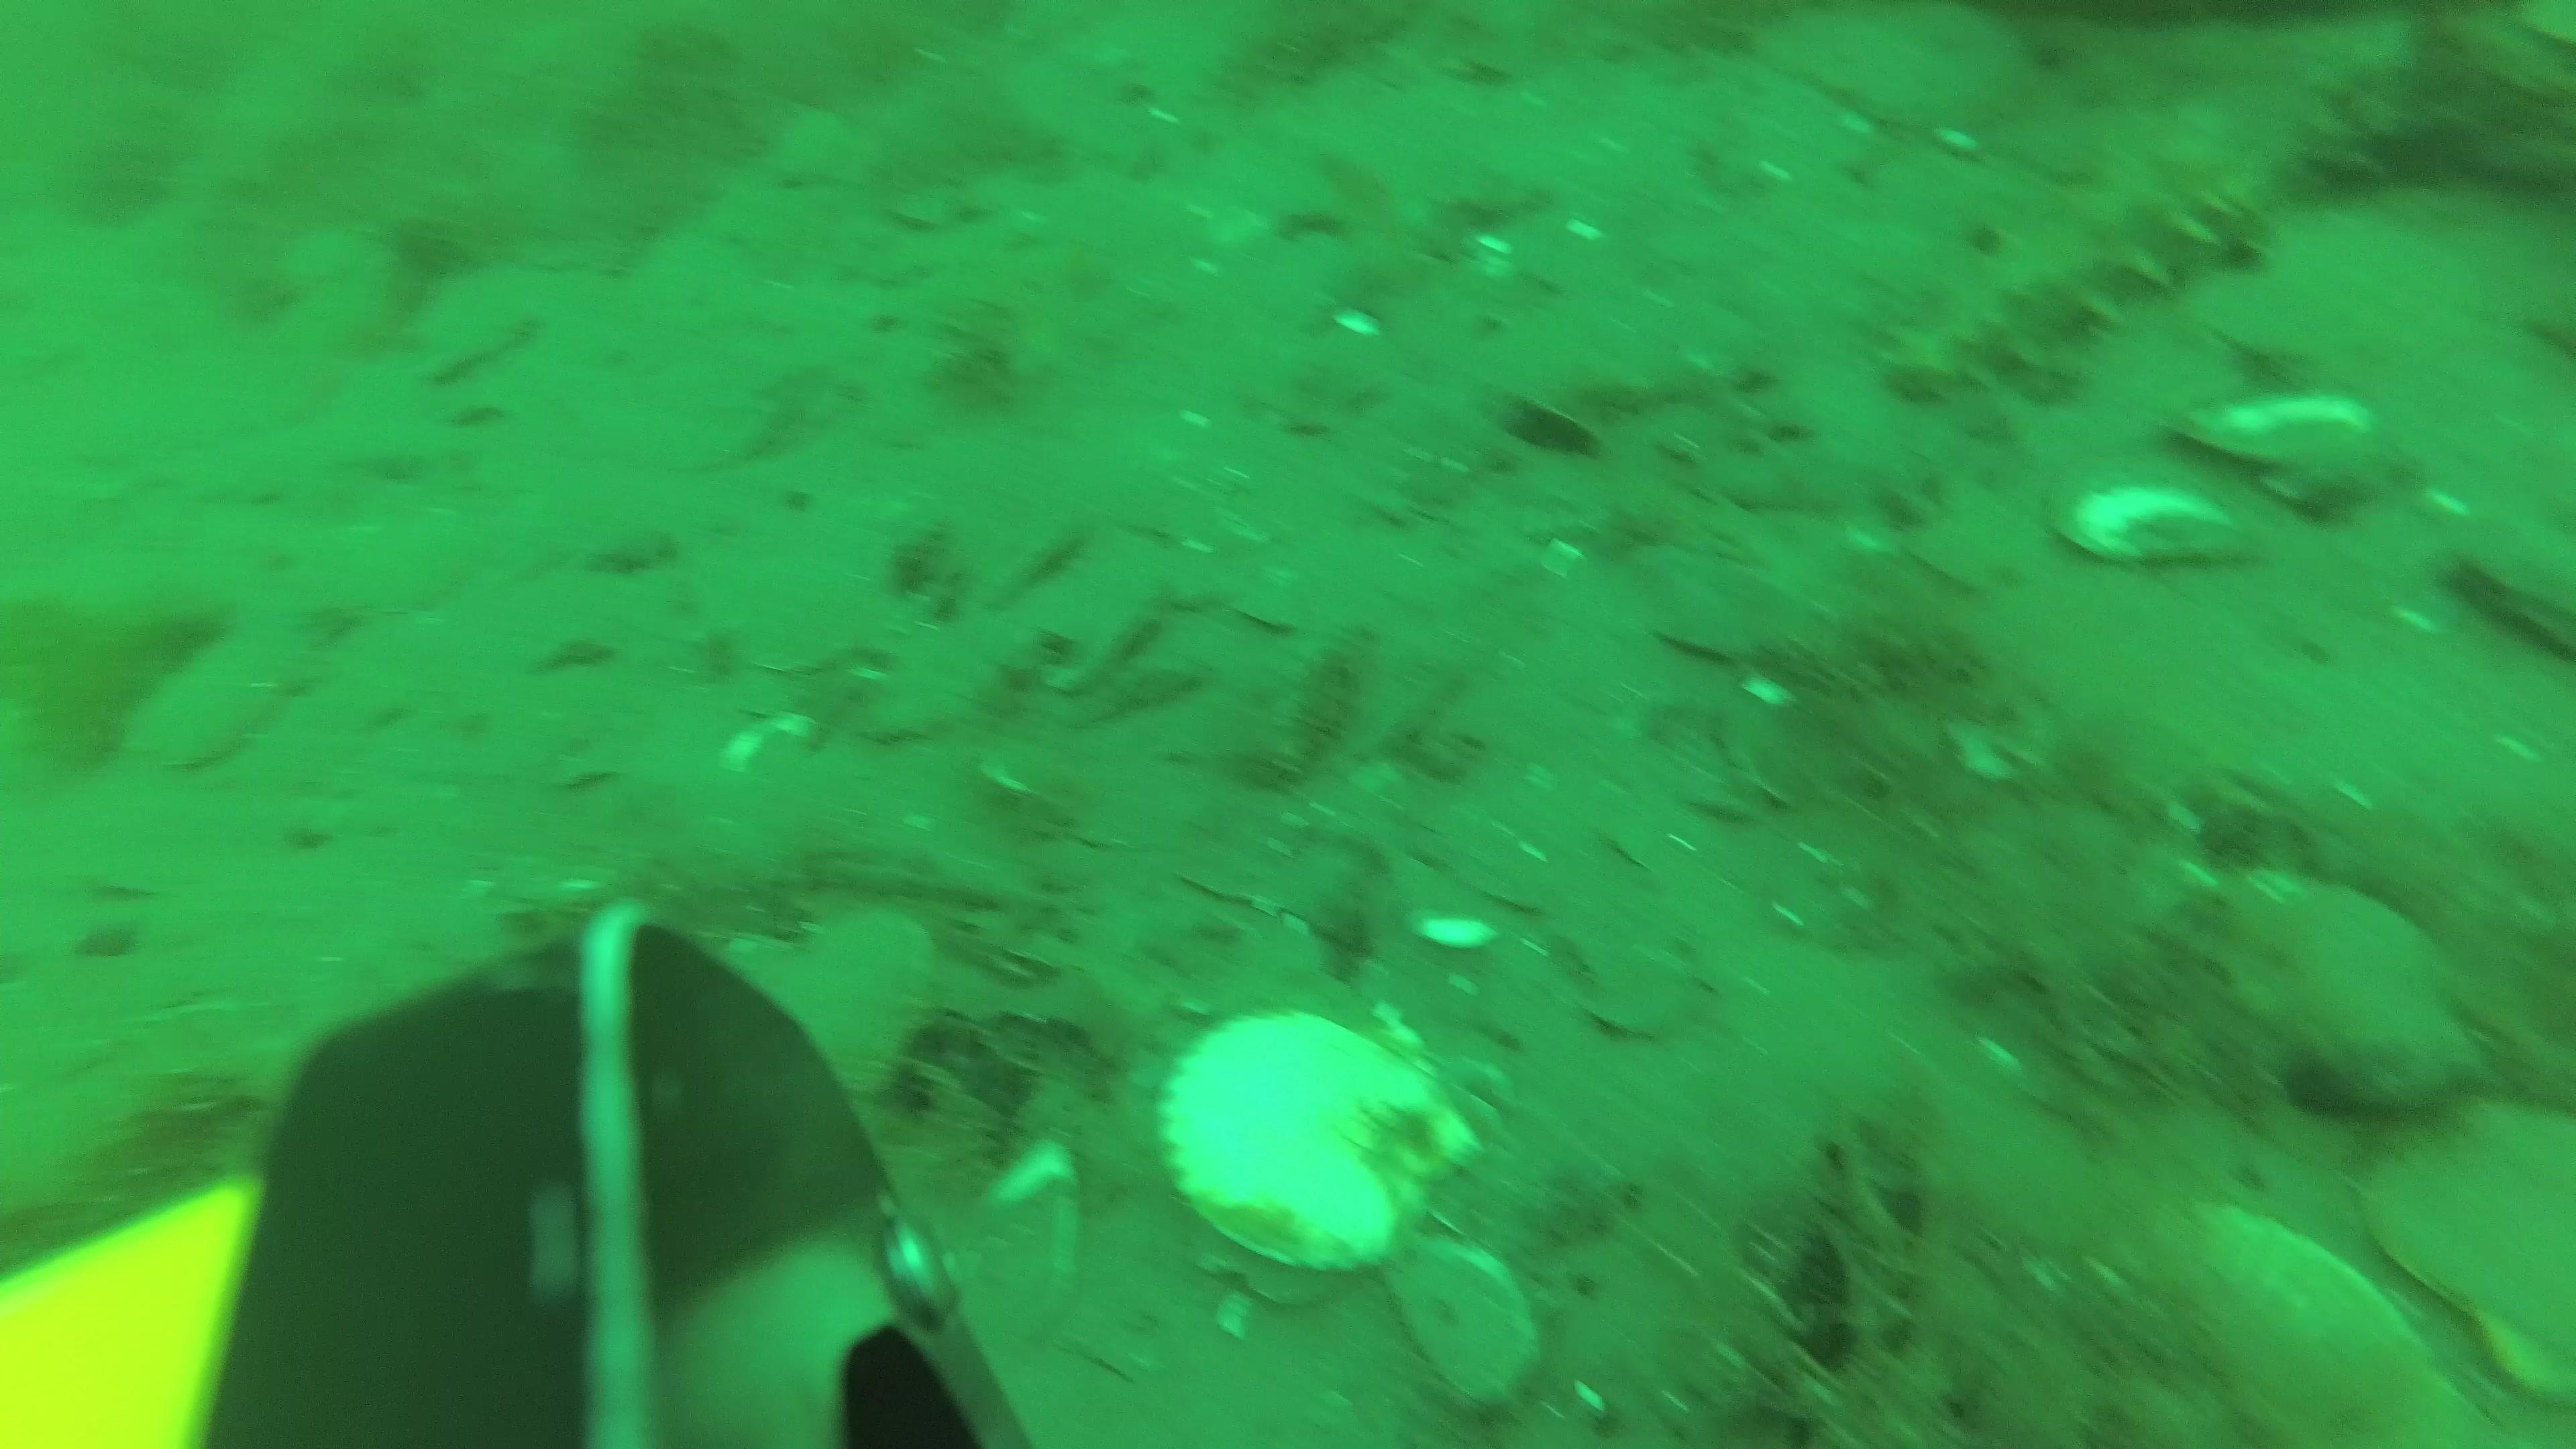holothurian: (1884, 172, 2279, 433)
scallop: (1157, 1012, 1484, 1283), (2120, 1207, 2456, 1449), (2367, 1088, 2574, 1408), (2201, 858, 2489, 1063), (2176, 389, 2401, 511), (768, 922, 929, 1083), (2029, 469, 2254, 577), (1640, 556, 1810, 671), (2450, 543, 2576, 669)
